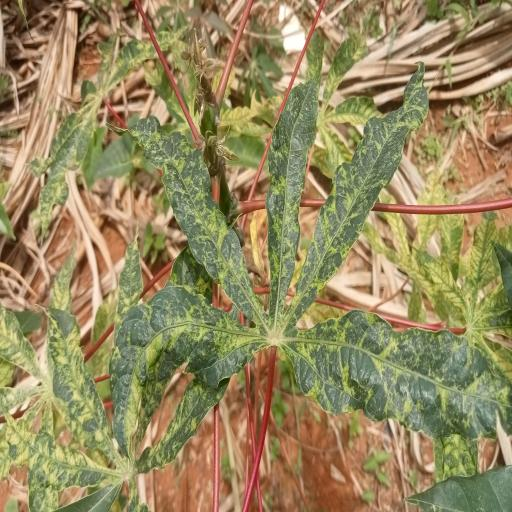Cassava_Mosaic: (107, 65, 512, 451), (0, 218, 174, 512)
